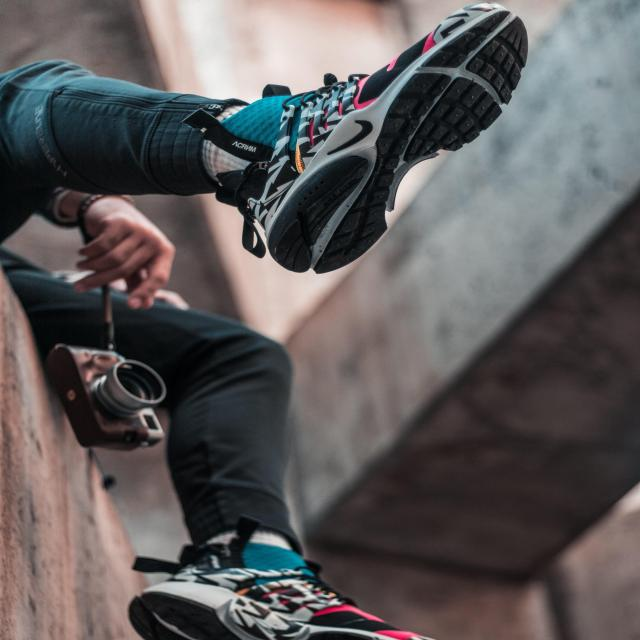shoe: (224, 0, 573, 276), (110, 516, 468, 640)
